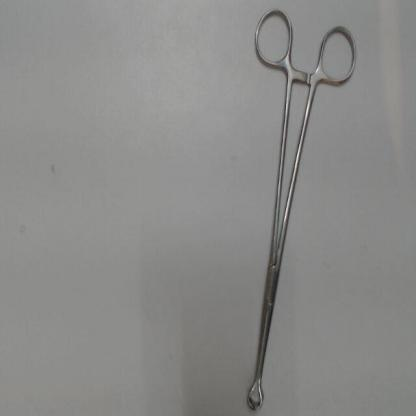8 Babcock Tissue Forceps: (239, 5, 365, 414)
